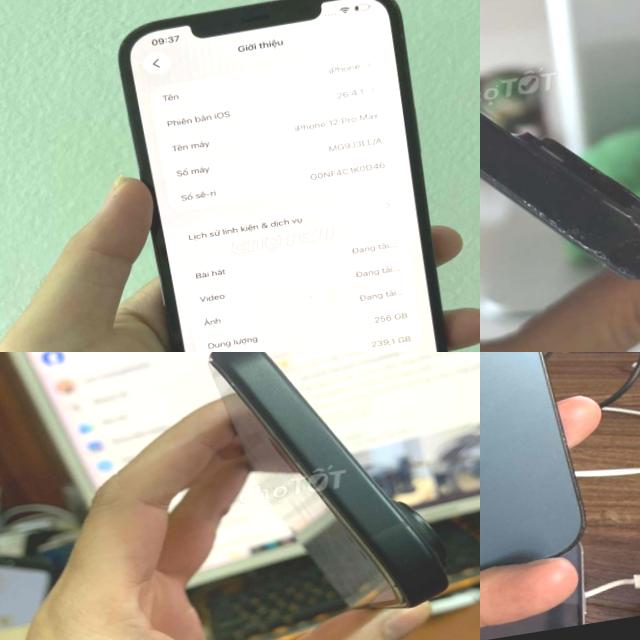gen_12_13: (103, 0, 479, 352), (480, 352, 604, 625)
gen_14: (480, 0, 640, 342)
gen_16: (209, 352, 448, 608)
